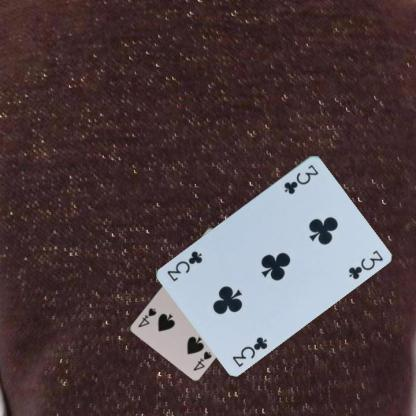3c: (229, 333, 269, 368), (281, 162, 320, 195)
4s: (191, 349, 213, 372)
